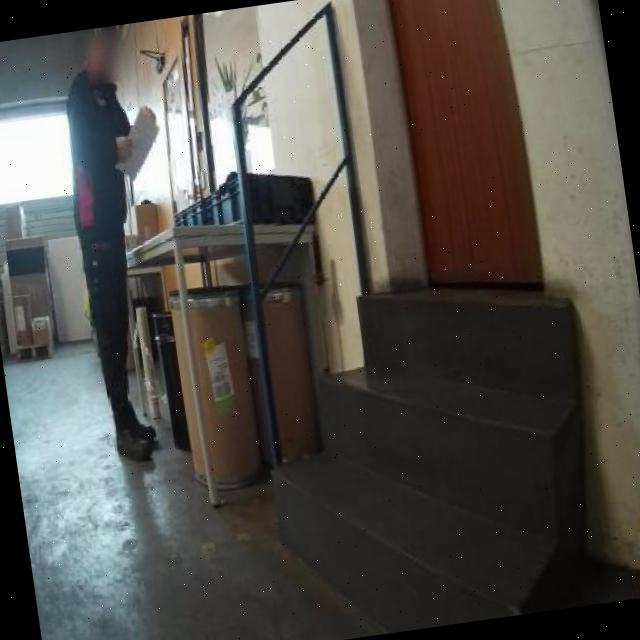pallet: (12, 339, 58, 367)
